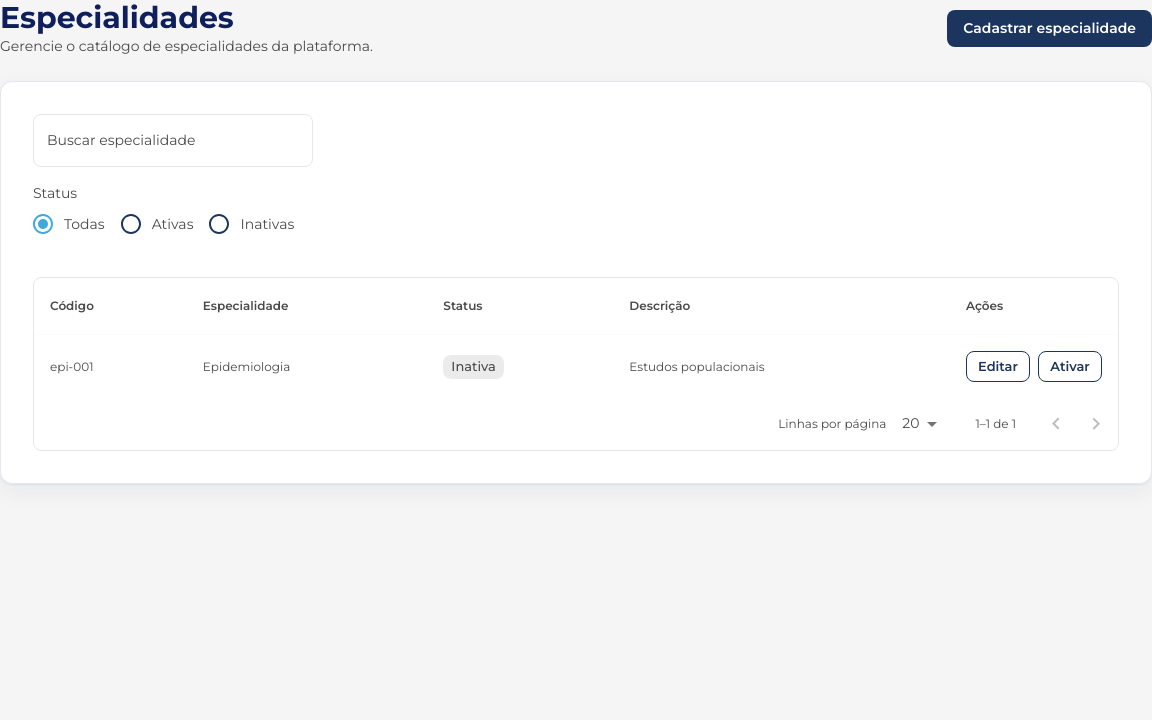
Test: Specialties › confirma a alteração de status de false e atualiza o chip
Click the button "Ativar". click: {"x": 1070, "y": 367}
box: left=1038, top=351, right=1102, bottom=382
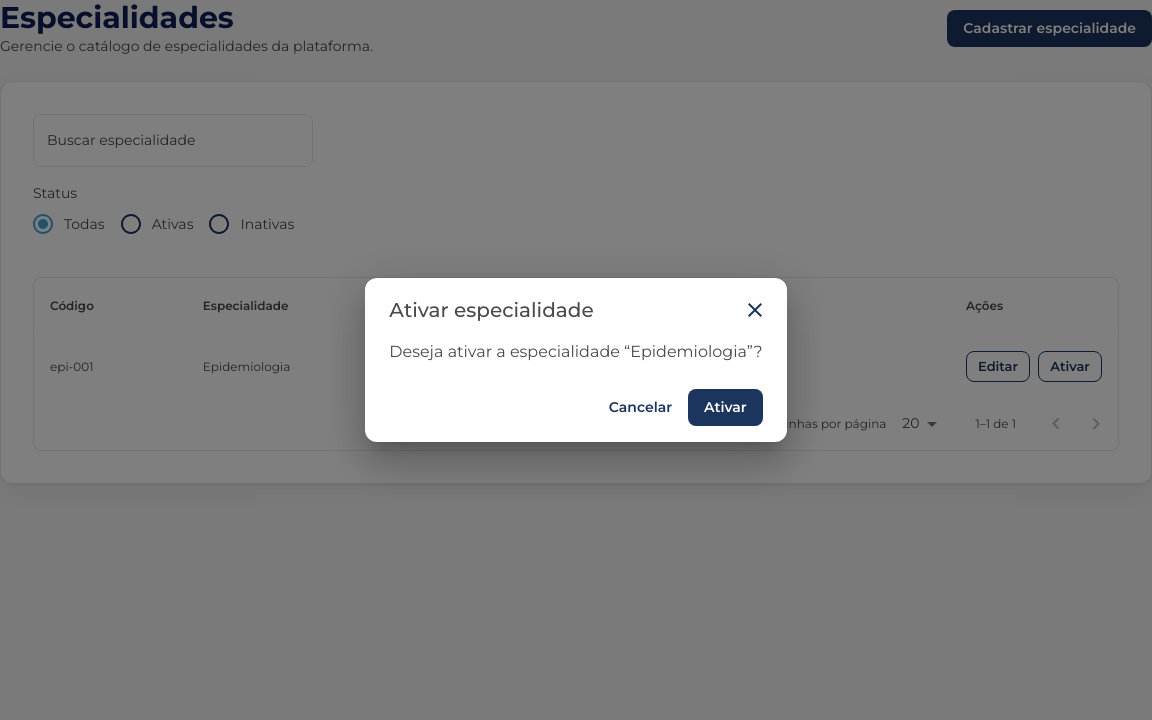
Click the button "Cancelar". click: {"x": 640, "y": 408}
box: left=601, top=389, right=680, bottom=426
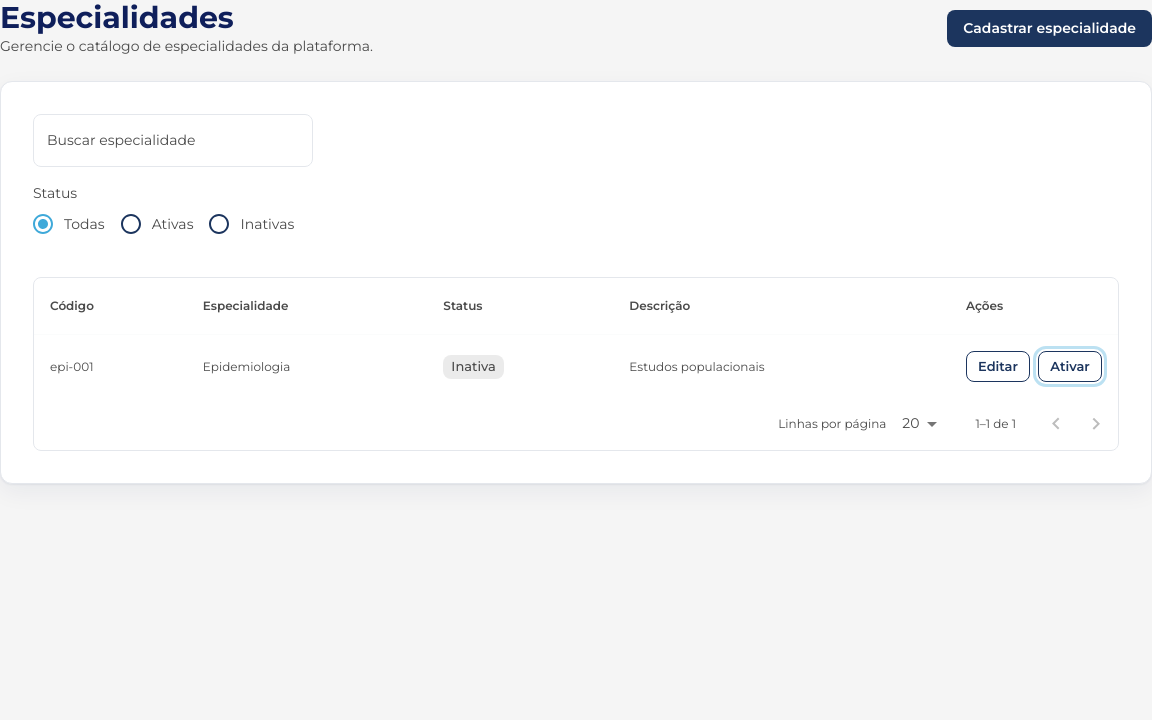
Now the dialog is gone
Click the button "Ativar". click: {"x": 1070, "y": 367}
box: left=1038, top=351, right=1102, bottom=382
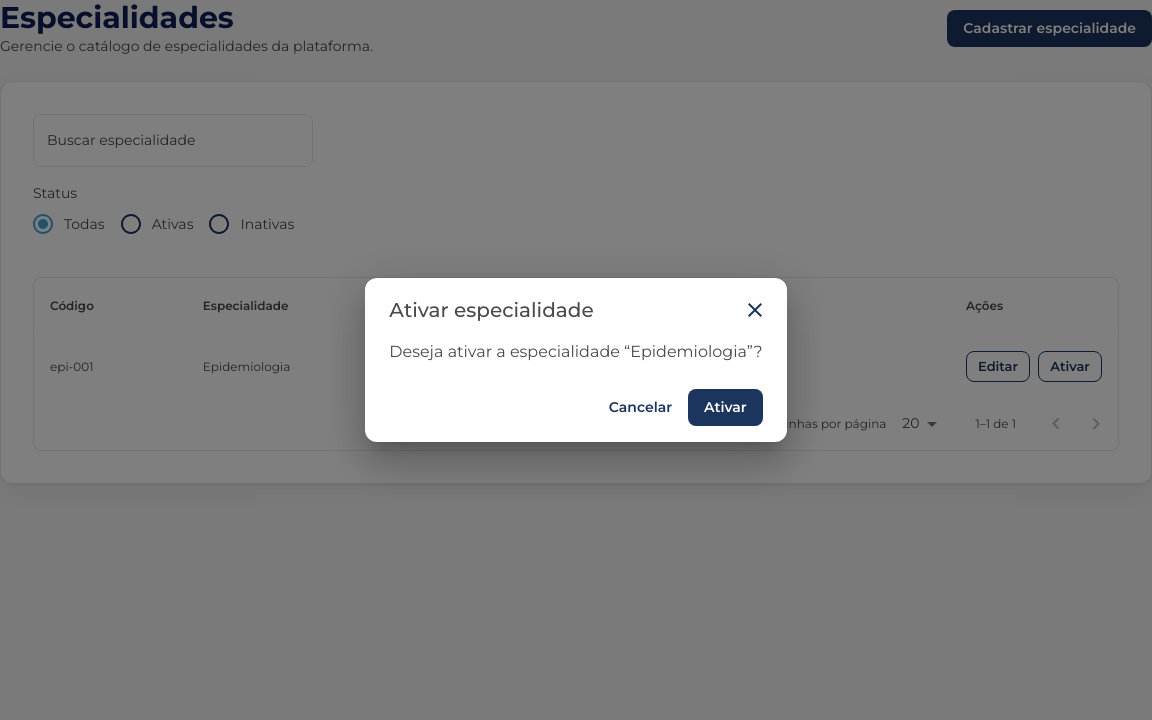
Click the button "Ativar". click: {"x": 725, "y": 408}
box: left=688, top=389, right=763, bottom=426
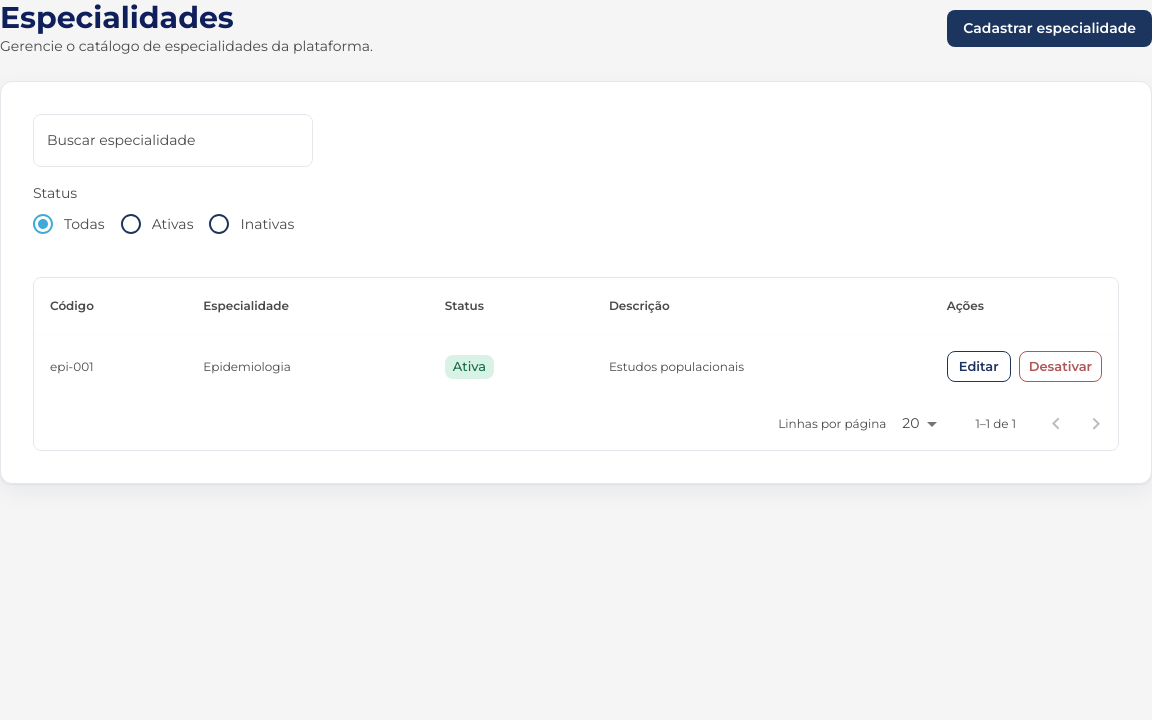
Expected: the text "Ativa" is shown, left=453, top=358, right=486, bottom=374
Now the dialog is gone
